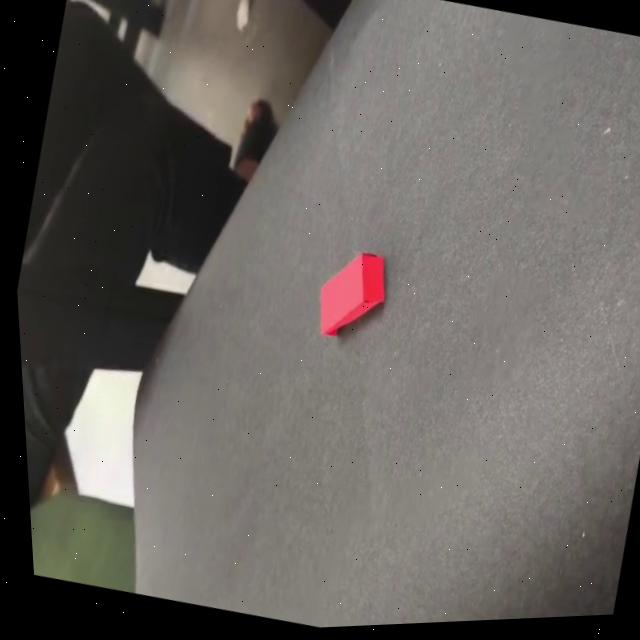red block: (304, 241, 395, 349)
